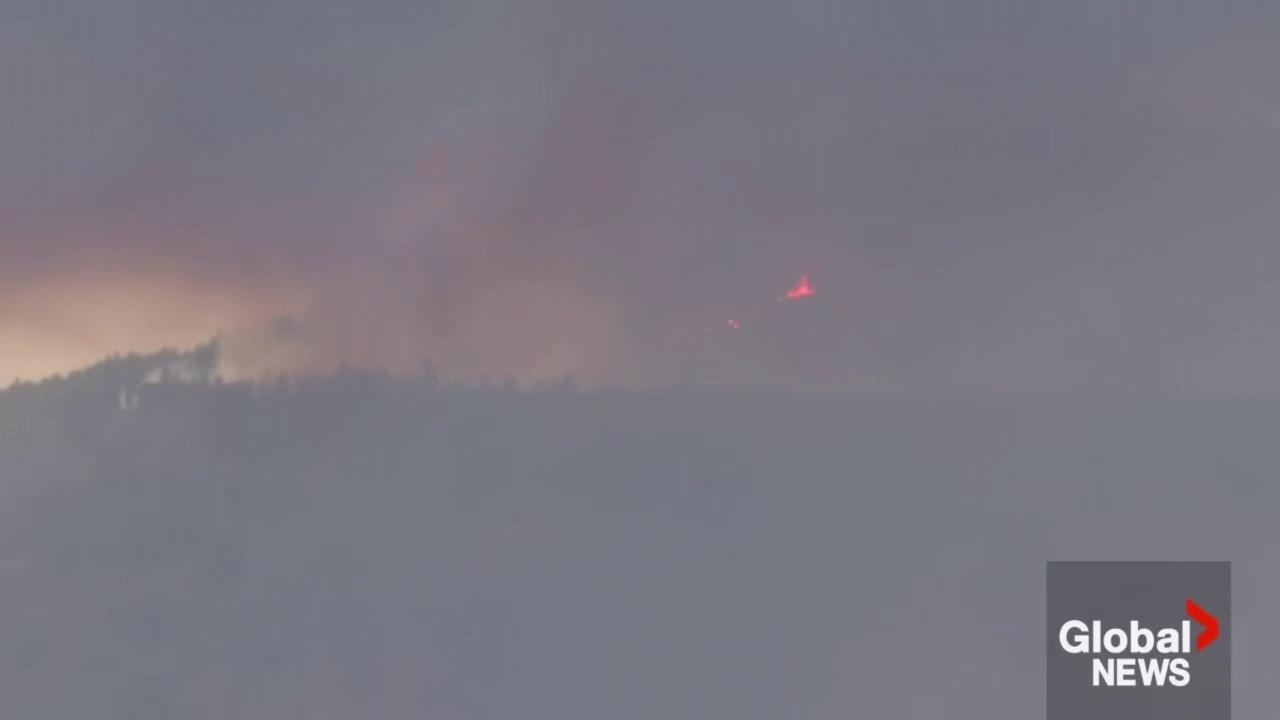fire: (783, 269, 813, 300), (727, 318, 739, 330)
smoke: (0, 0, 1280, 720)
